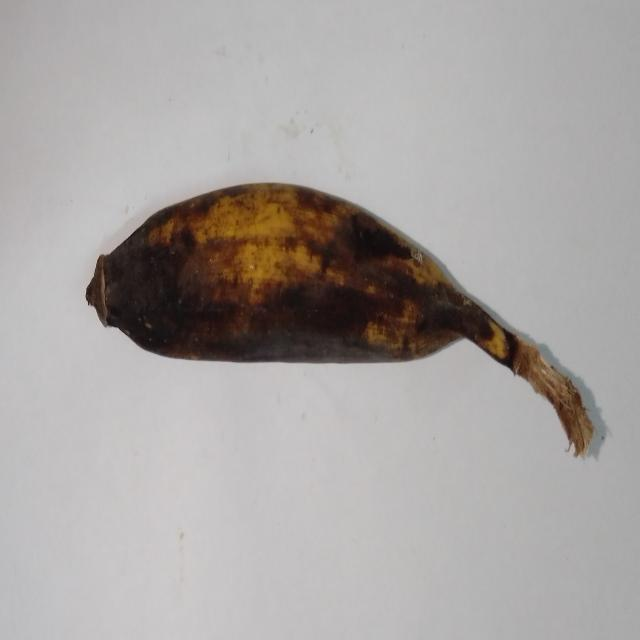banana: (87, 184, 593, 456)
